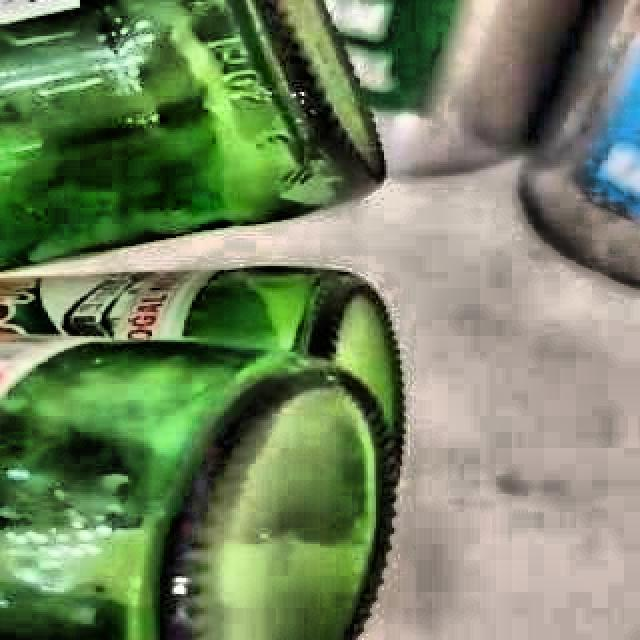glass: (0, 267, 405, 640)
